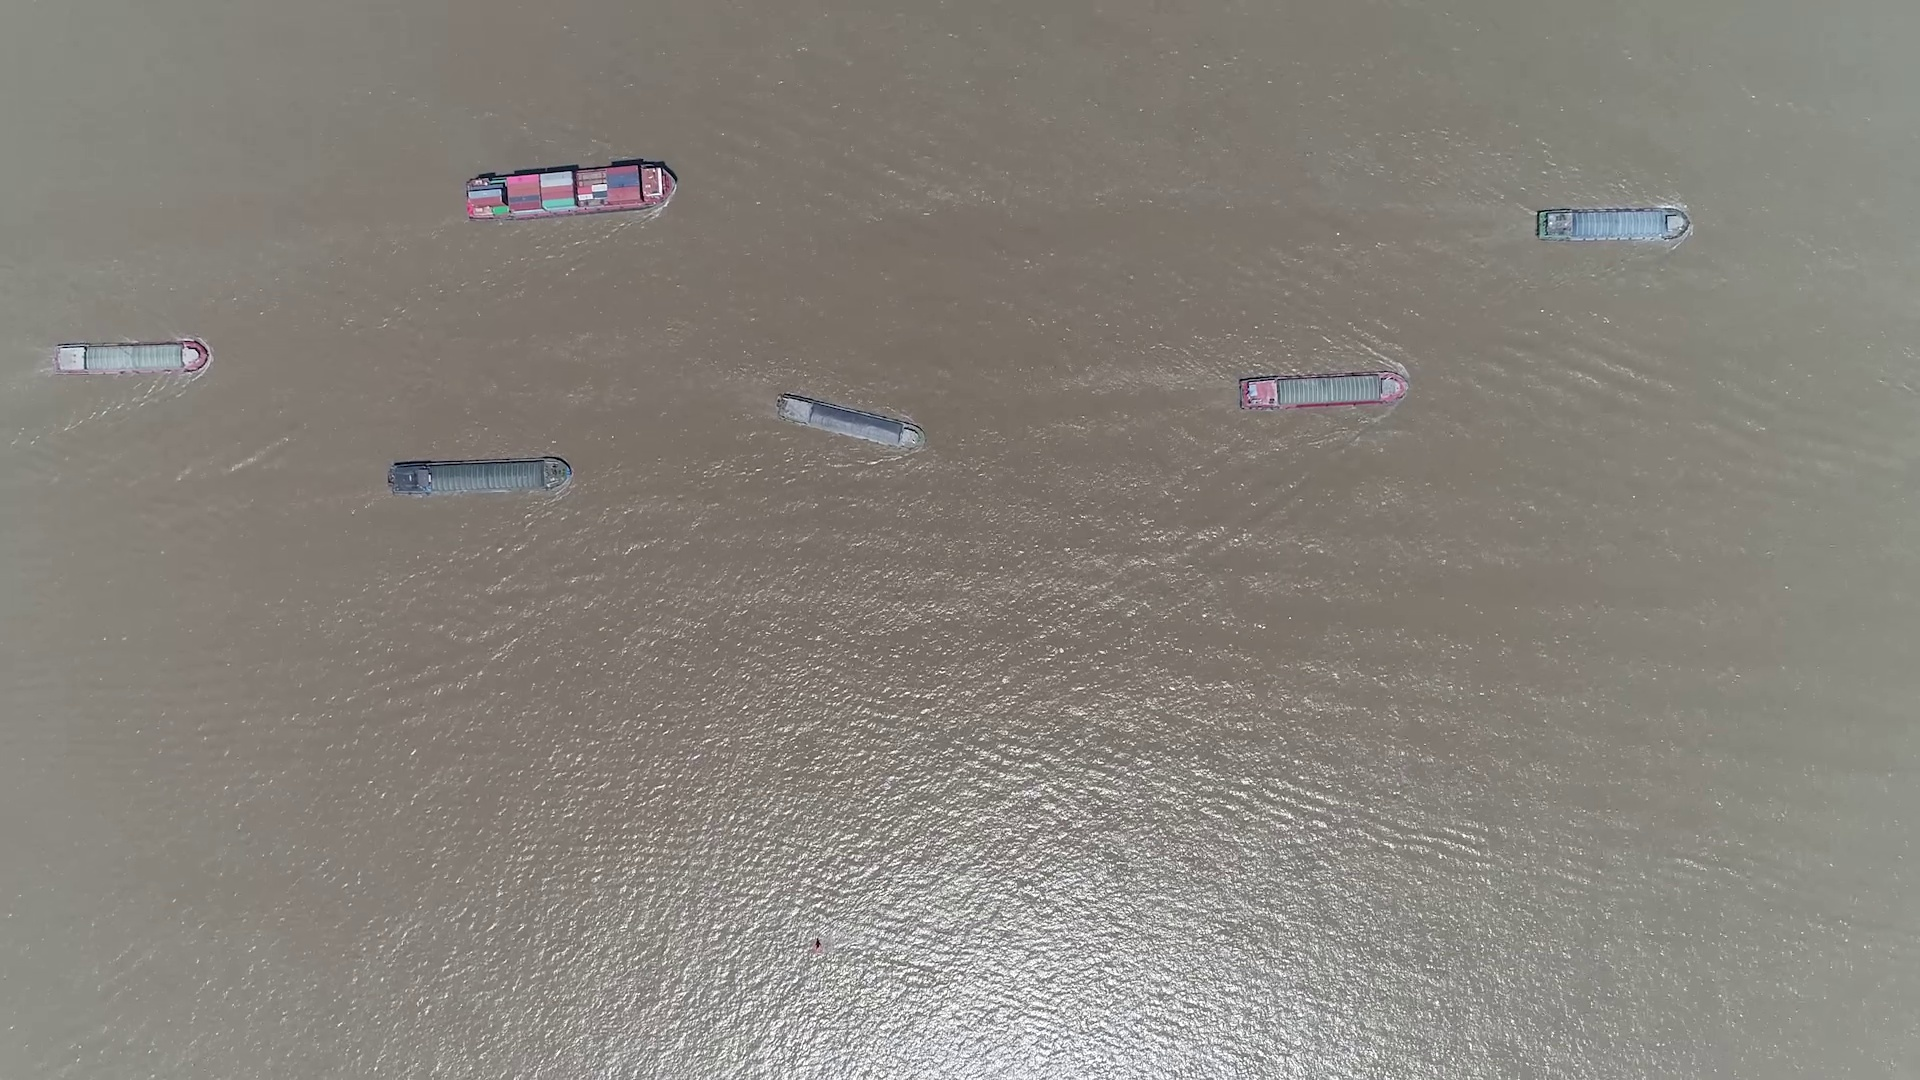ship: (463, 164, 676, 220), (773, 393, 923, 448), (388, 458, 571, 497), (1237, 371, 1408, 409), (51, 342, 207, 373), (1538, 208, 1687, 241)
